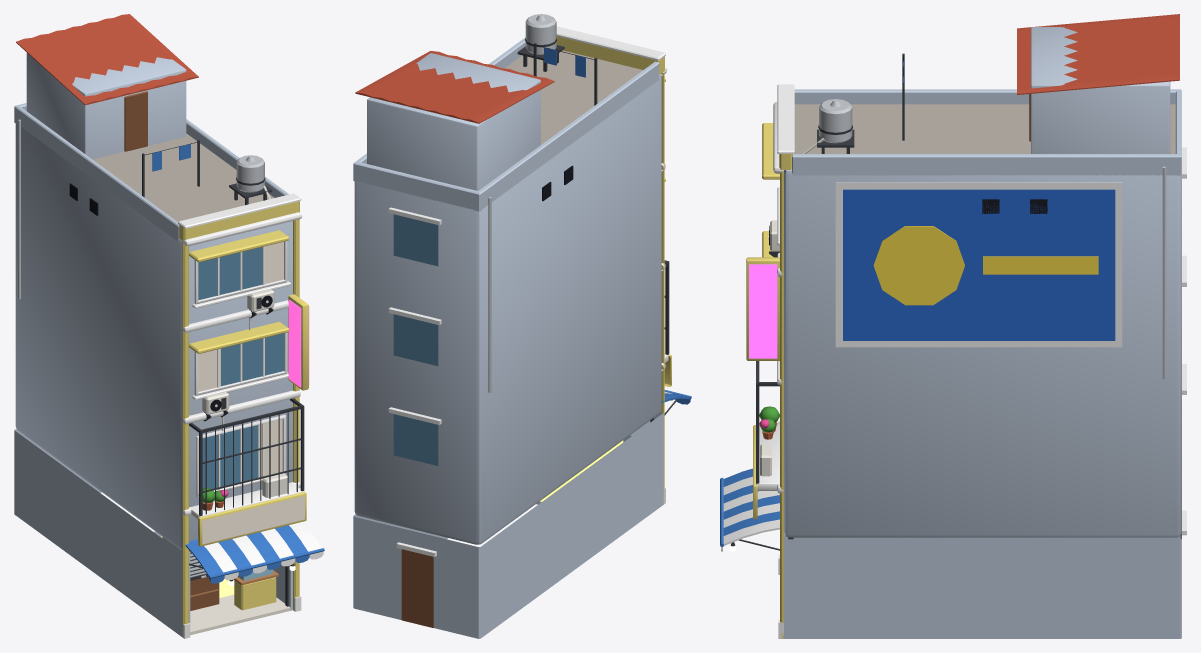
Rendered from bld_shophouse_4f.glb.
3 renders of one model, left to right at view 1: azimuth 30°, elevation 25°; view 2: azimuth 150°, elevation 25°; view 3: azimuth 270°, elevation 25°, orthographic. The views are drawn at different scales.
Parts seen in each view (by area): view 1: body, signboard; view 2: body; view 3: body.
Part boxes in pixels (bbox=[...]): body: bbox=[14, 14, 324, 638]; signboard: bbox=[202, 495, 304, 544]; body: bbox=[353, 14, 691, 638]; body: bbox=[720, 14, 1186, 638].
Size of the model in its own units: 4.22 by 15.52 by 11.72.
